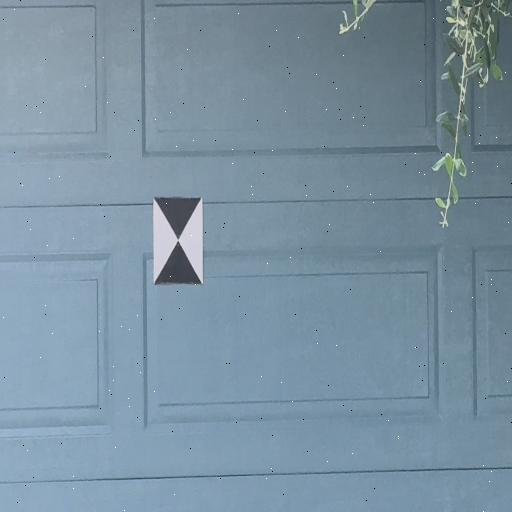target: (152, 198, 203, 283)
